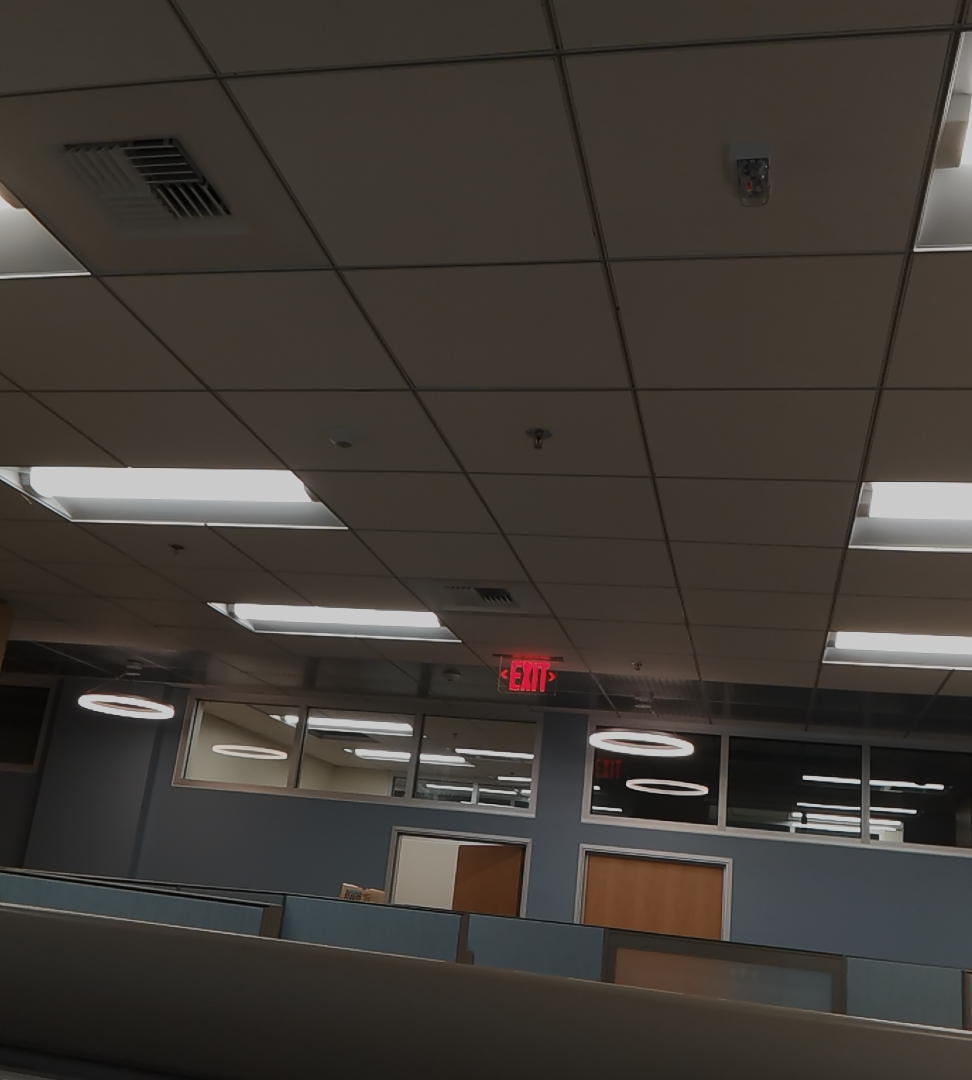emergency_exit: (493, 650, 562, 697)
